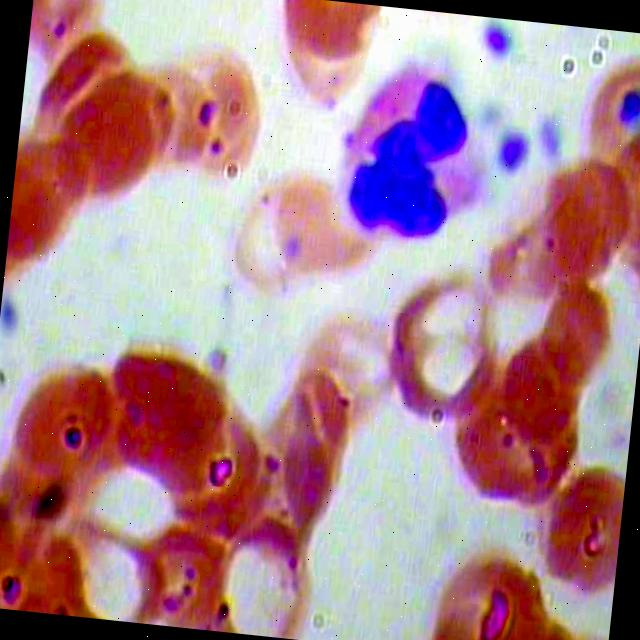Platelets: (488, 120, 532, 188), (531, 103, 575, 171), (473, 15, 517, 78)
RBC: (82, 326, 268, 518), (47, 41, 188, 235), (373, 255, 503, 441), (439, 353, 568, 522), (500, 266, 628, 436), (466, 170, 594, 338), (523, 139, 640, 308), (166, 35, 292, 186), (524, 450, 628, 632), (224, 175, 346, 310), (7, 349, 128, 484), (288, 310, 409, 444), (201, 507, 322, 640), (115, 29, 212, 188), (4, 111, 87, 272), (419, 546, 554, 640), (574, 42, 640, 190), (274, 0, 390, 81), (25, 0, 109, 68)
WBC: (321, 42, 501, 256)
